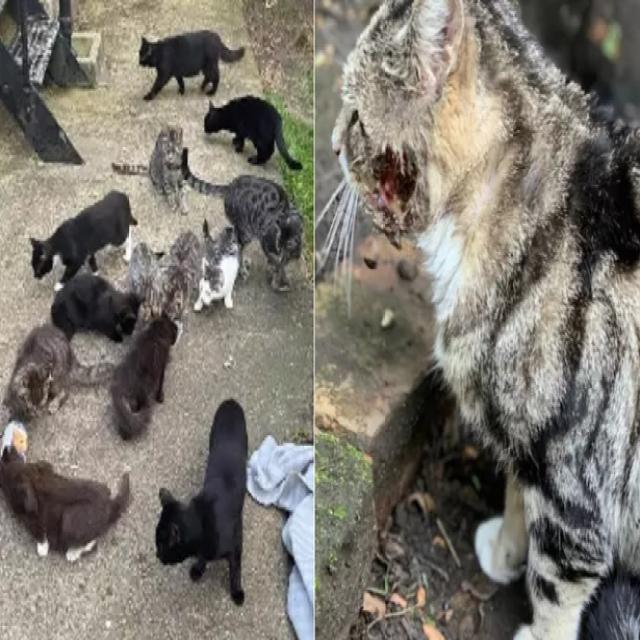cat: (332, 4, 640, 639), (156, 400, 248, 605), (0, 421, 130, 562), (181, 149, 302, 290), (4, 325, 115, 422), (30, 190, 138, 283), (111, 316, 178, 439), (204, 96, 302, 170), (139, 30, 244, 99), (112, 128, 189, 210), (51, 274, 140, 341), (194, 223, 240, 310), (162, 231, 202, 320), (128, 242, 162, 320)
